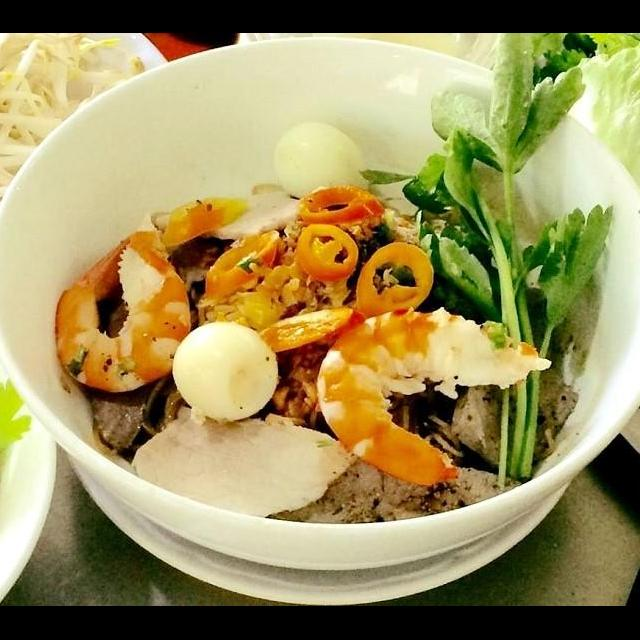thit heo: (122, 400, 361, 528)
tom: (306, 300, 560, 492), (41, 220, 198, 398)
trung: (166, 318, 284, 424), (266, 116, 372, 198)
